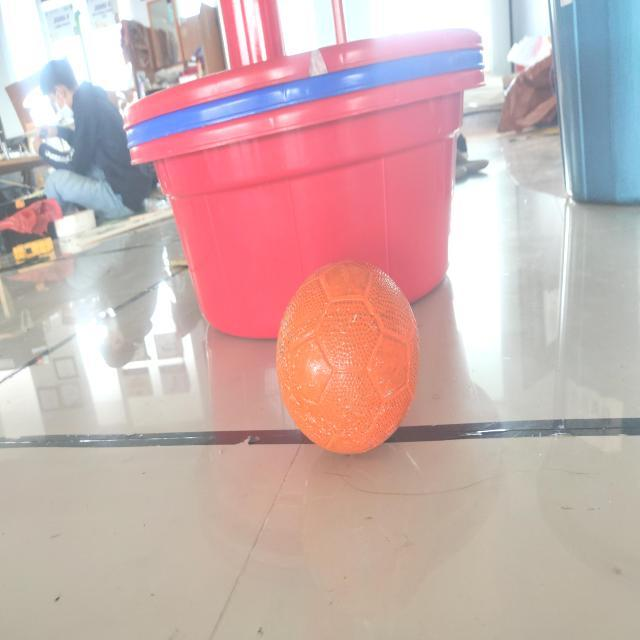bola: (268, 232, 430, 469)
